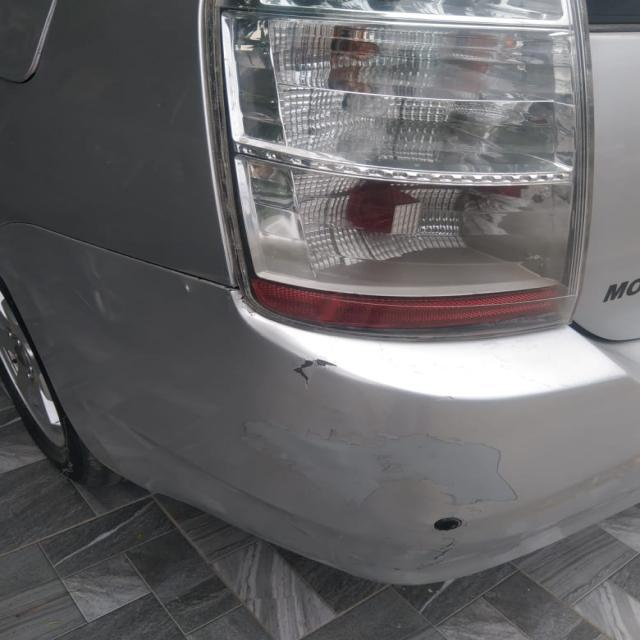scratch: (240, 407, 547, 595), (286, 350, 356, 386)
